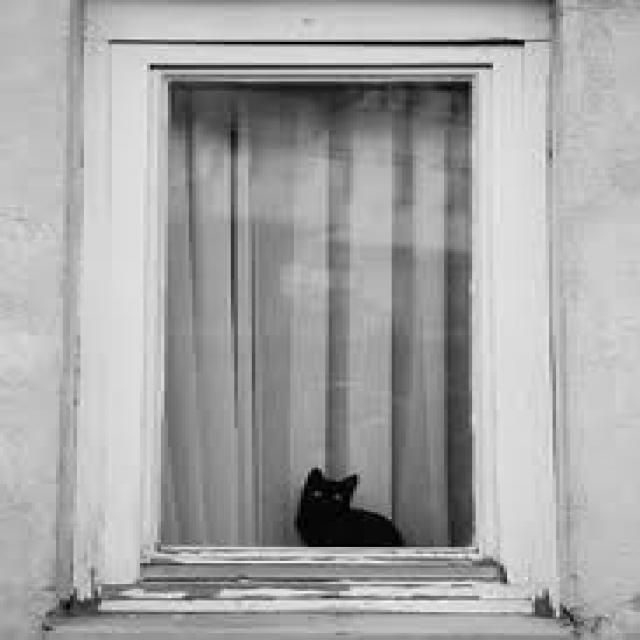Cat: (283, 460, 416, 547)
